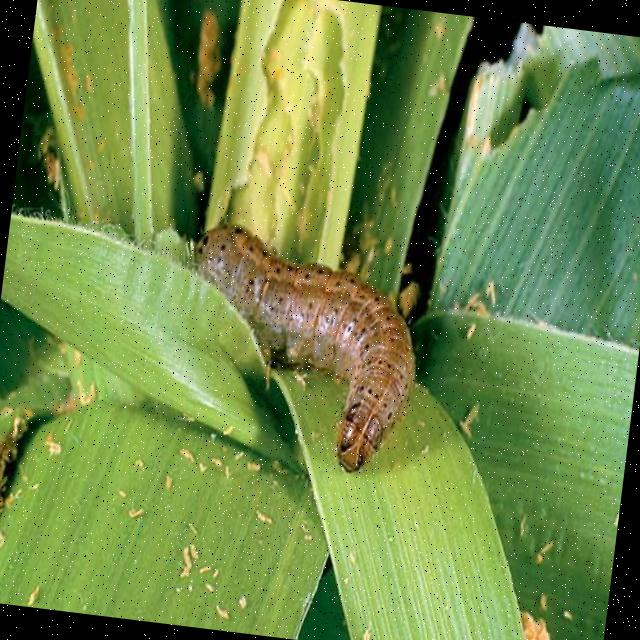worm: (169, 218, 435, 482)
